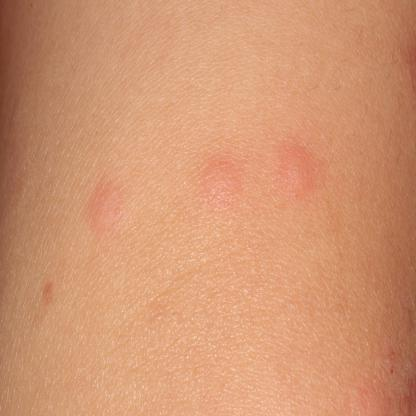Bed Bug: (85, 166, 140, 242), (274, 136, 332, 208), (193, 144, 248, 218)
